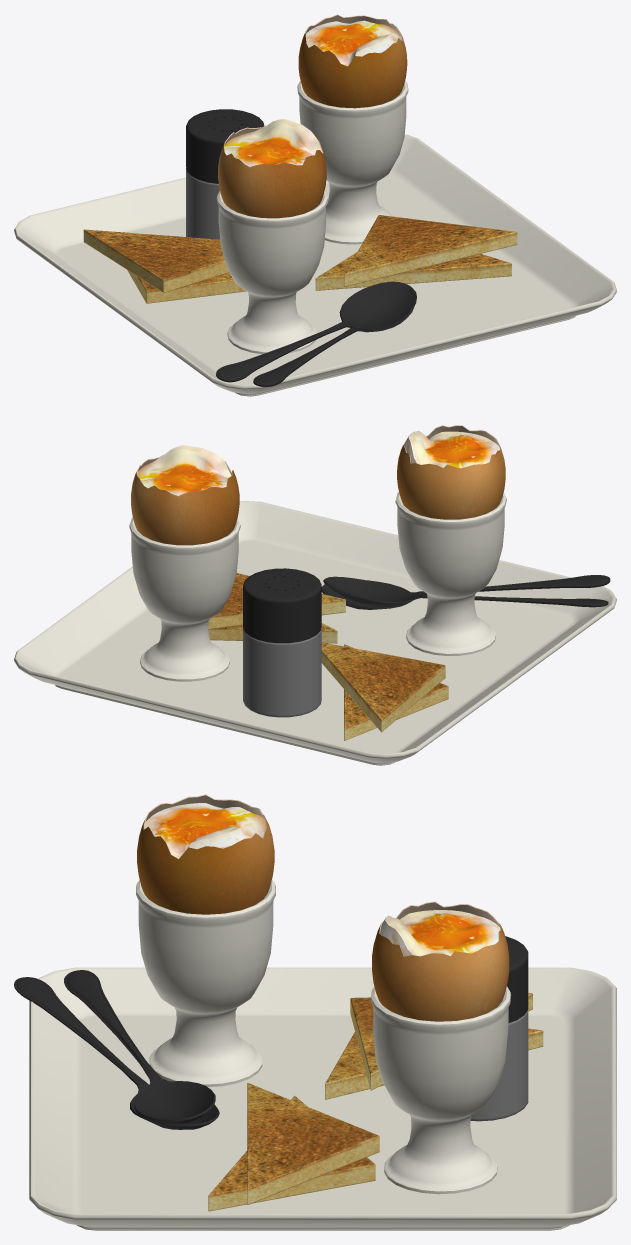
Rendered from 41-HUEVOS.FBX.
3 renders of one model, top to bottom at view 1: azimuth 30°, elevation 25°; view 2: azimuth 150°, elevation 25°; view 3: azimuth 270°, elevation 25°, orthographic. The views are drawn at different scales.
Visible parts, largest first — view 1: archmodels76_041_07, archmodels76_041_06, archmodels76_041_01, archmodels76_041_04, archmodels76_041_08, archmodels76_041_03, archmodels76_041_05; view 2: archmodels76_041_07, archmodels76_041_06, archmodels76_041_01, archmodels76_041_04, archmodels76_041_05, archmodels76_041_03, archmodels76_041_08; view 3: archmodels76_041_07, archmodels76_041_06, archmodels76_041_01, archmodels76_041_04, archmodels76_041_08, archmodels76_041_05, archmodels76_041_03.
Boxes of the visible parts, <box> form: archmodels76_041_07: <box>14,134,616,396</box>; archmodels76_041_06: <box>216,80,408,354</box>; archmodels76_041_01: <box>218,14,407,218</box>; archmodels76_041_04: <box>83,215,517,303</box>; archmodels76_041_08: <box>216,281,416,386</box>; archmodels76_041_03: <box>186,109,264,183</box>; archmodels76_041_05: <box>186,168,220,239</box>; archmodels76_041_07: <box>14,501,616,765</box>; archmodels76_041_06: <box>129,492,506,681</box>; archmodels76_041_01: <box>131,425,505,545</box>; archmodels76_041_04: <box>208,573,448,740</box>; archmodels76_041_05: <box>243,627,321,717</box>; archmodels76_041_03: <box>243,568,321,643</box>; archmodels76_041_08: <box>321,575,610,609</box>; archmodels76_041_07: <box>29,967,616,1230</box>; archmodels76_041_06: <box>136,879,511,1194</box>; archmodels76_041_01: <box>137,794,509,1021</box>; archmodels76_041_04: <box>208,993,543,1211</box>; archmodels76_041_08: <box>14,970,219,1129</box>; archmodels76_041_05: <box>470,1010,528,1121</box>; archmodels76_041_03: <box>505,936,528,1022</box>.
Bounding box in the file's own units: 8.33 × 4.07 × 8.55.
